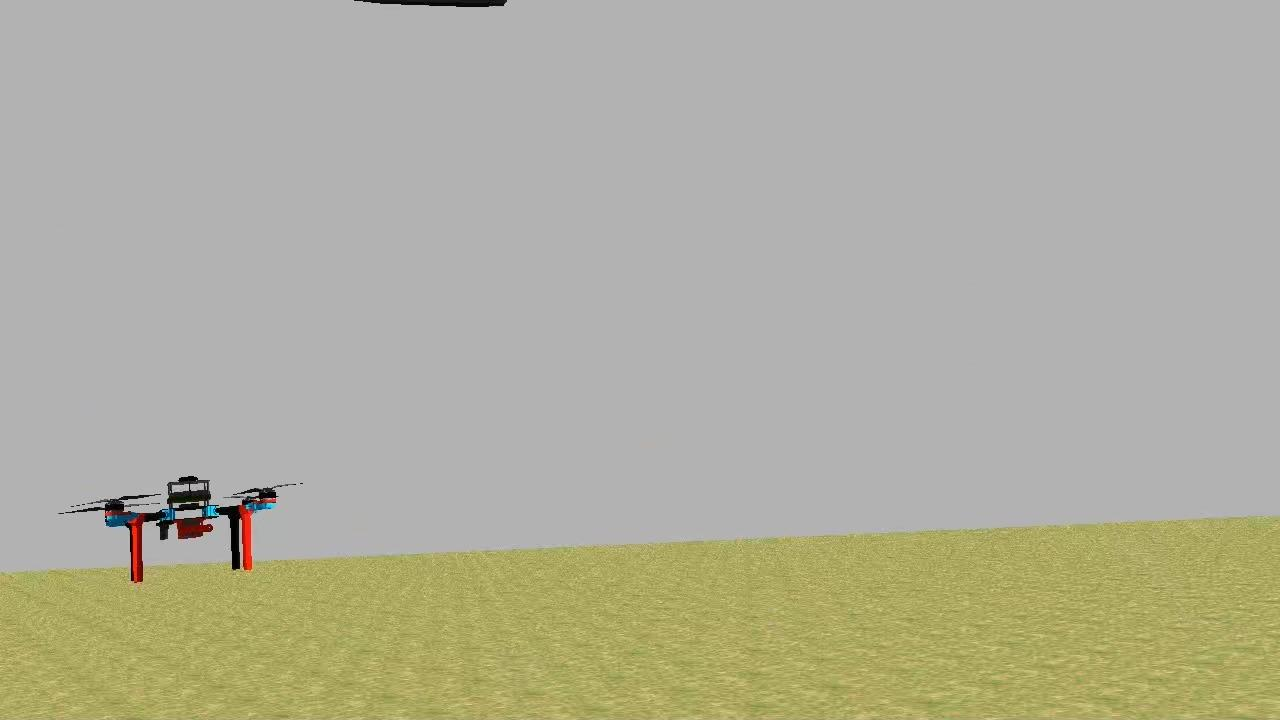UAV: (94, 470, 284, 590)
